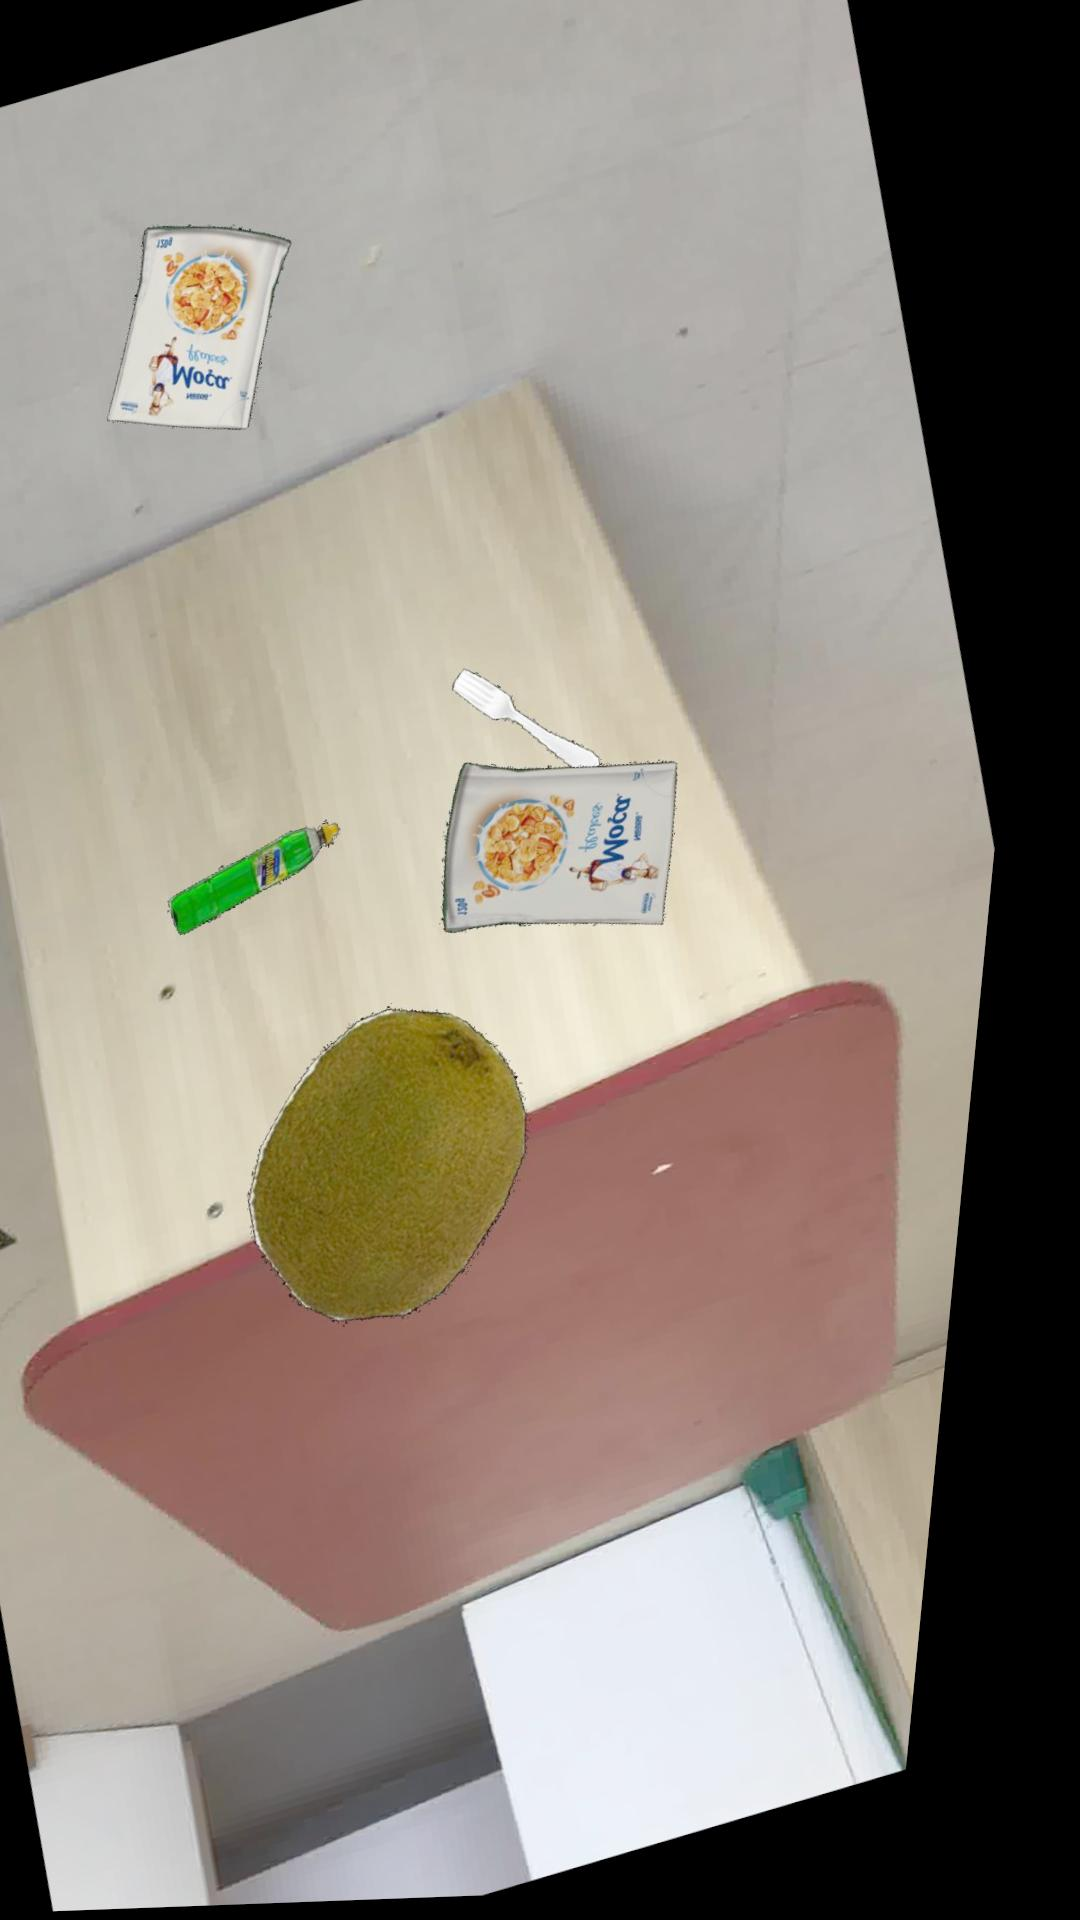cleaner: (189, 825, 359, 938)
corn flakes: (462, 767, 695, 939), (117, 227, 298, 433)
fork: (468, 674, 618, 773)
kiwi: (274, 1013, 553, 1327)
